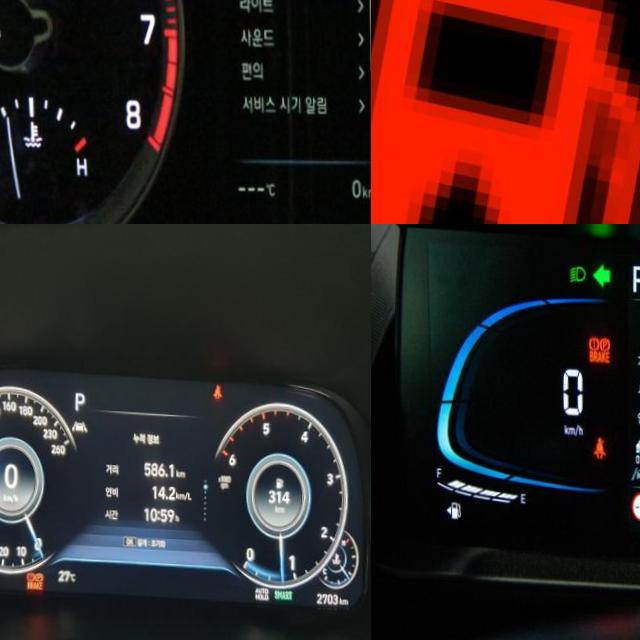LaneCenteringOff: (69, 418, 85, 431)
Low beam: (566, 263, 584, 282)
Low fuel level: (371, 0, 640, 224)
